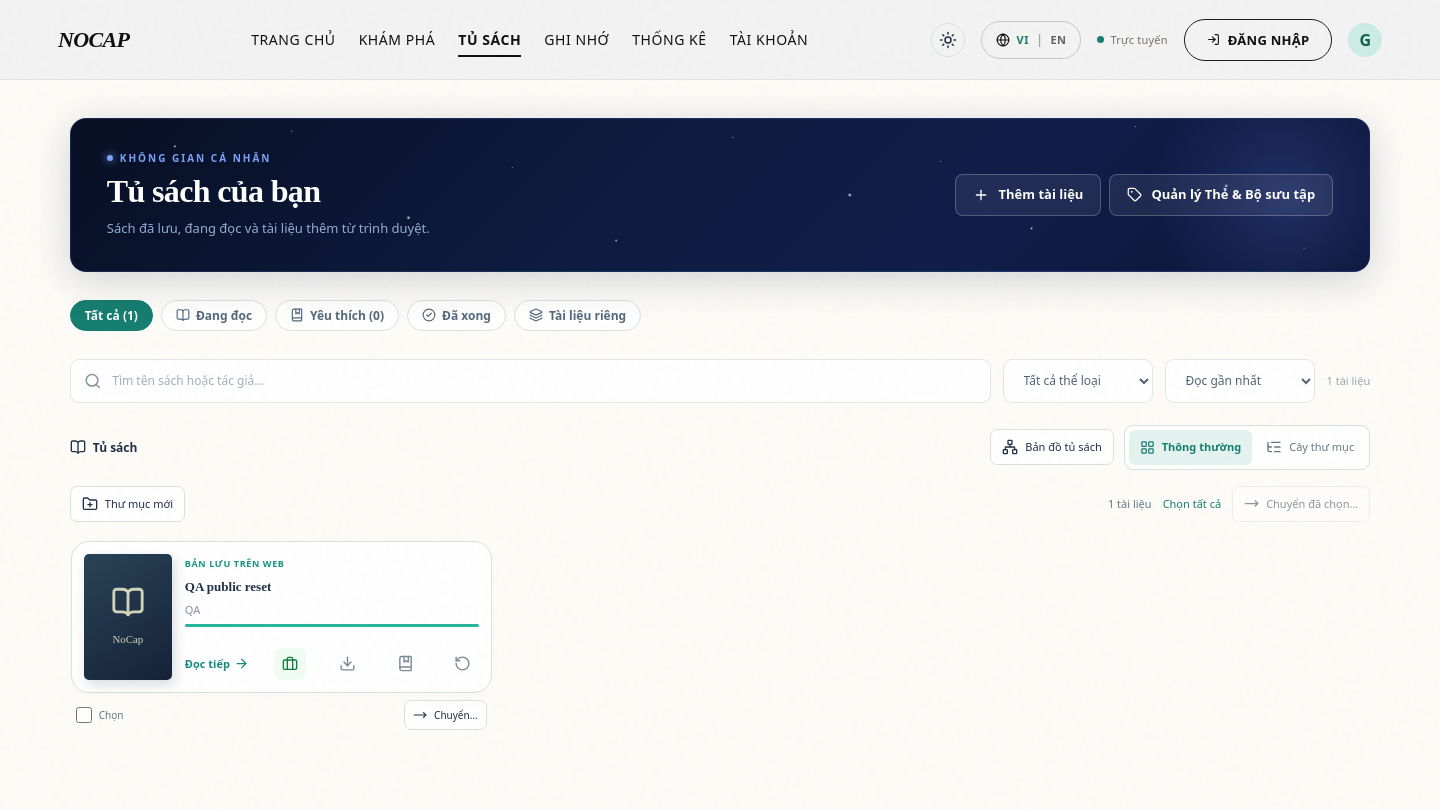
Test: removing public books from the personal library › reports a committed reset separately when refreshing the library fails
Click the button named "Gỡ khỏi tủ sách: QA public reset": (462, 664) [446,648,478,680]
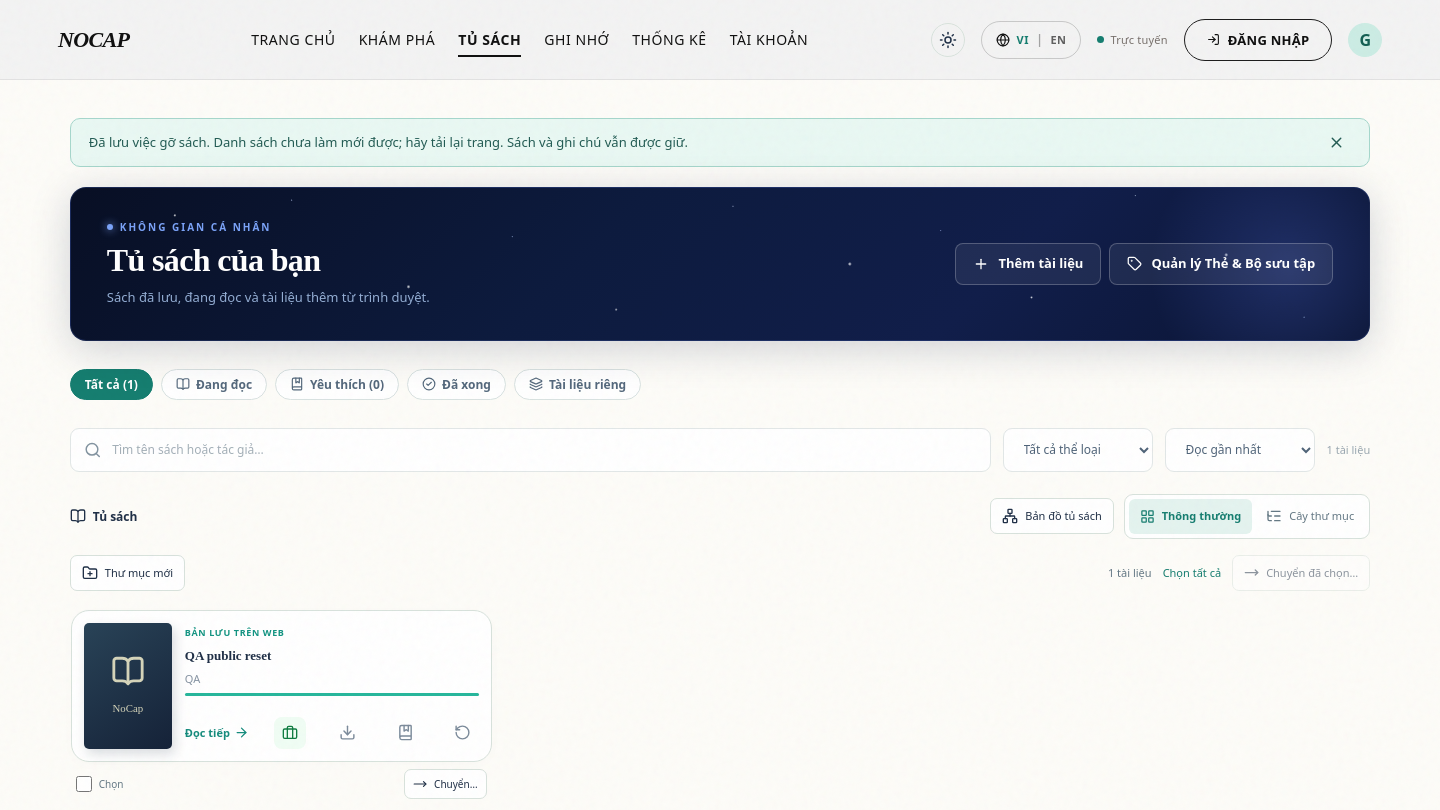
Check: the text "Đã lưu việc gỡ sách. Danh sách chưa làm mới được; hãy tải lại trang. Sách và ghi chú vẫn được giữ." is shown, box [89,133,688,151]
